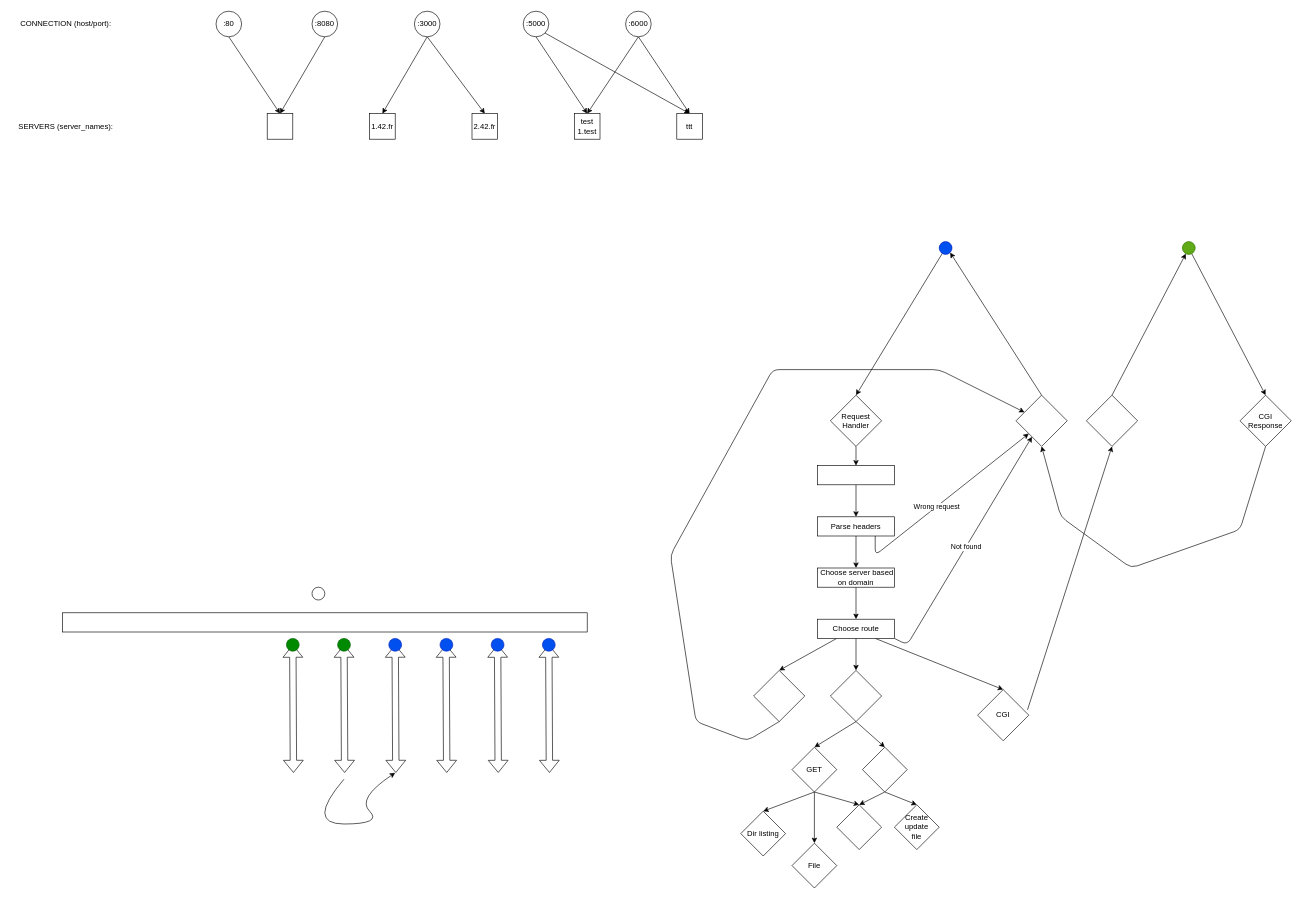
This 1302x899 diagram has some shape labels left out. Each missing label, with the centre of its shape:
"42.fr" belongs at pixel 280 126.
"CGI Request (env)" belongs at pixel 1112 420.
"Connection" belongs at pixel 324 622.
"Error" belongs at pixel 859 827.
"Path" belongs at pixel 856 696.
"POST PUT" belongs at pixel 884 769.
"Receive headers" belongs at pixel 855 475.
"Redirect" belongs at pixel 779 696.
"Response Handler" belongs at pixel 1041 420.
